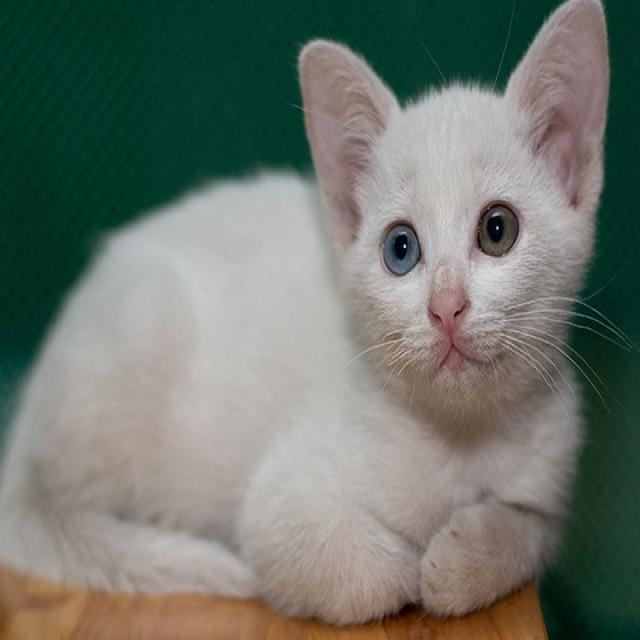Khao Manee: (0, 0, 614, 633)
